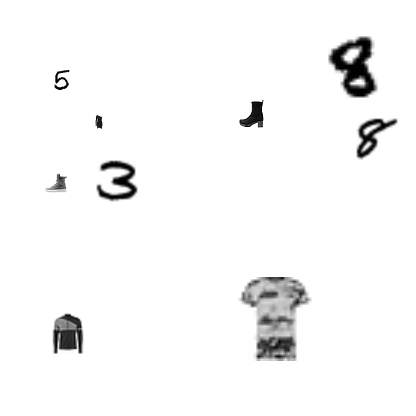3: (91, 153, 147, 209)
5: (47, 66, 75, 94)
8: (311, 25, 395, 109), (343, 107, 399, 163)
Ankle_boot: (237, 100, 265, 128), (45, 172, 67, 194)
Coat: (47, 313, 89, 355)
Dress: (92, 115, 106, 129)
T-shirt/top: (233, 277, 317, 361)
